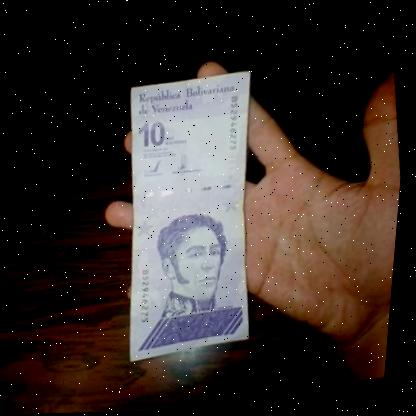ten-front-vef: (99, 67, 290, 363)
